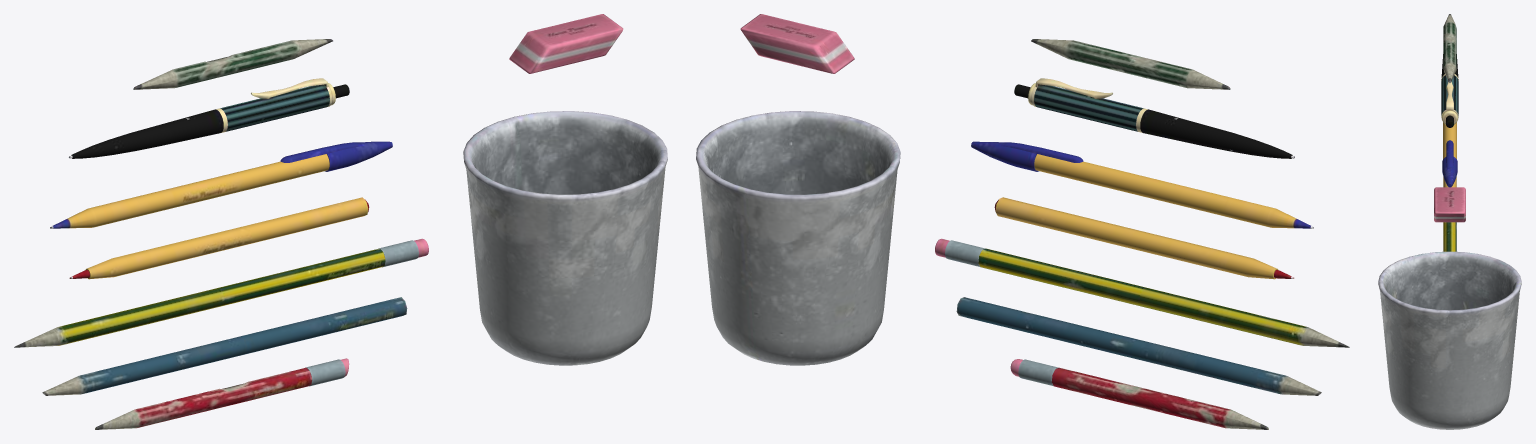
The model's file is stationery_set.glb.
The picture shows the model from 3 angles, left to right: view 1: azimuth 30°, elevation 25°; view 2: azimuth 150°, elevation 25°; view 3: azimuth 270°, elevation 25°; orthographic projection. The views are drawn at different scales.
Visible parts, largest first — view 1: stationery_supplies_pen_red; view 2: stationery_supplies_pen_red; view 3: stationery_supplies_pen_red.
Boxes of the visible parts, <box> form: stationery_supplies_pen_red: <box>14,14,667,429</box>; stationery_supplies_pen_red: <box>696,14,1349,429</box>; stationery_supplies_pen_red: <box>1378,14,1521,429</box>.
Size of the model in its own units: 0.3019 by 0.1643 by 0.0837.
Materials: 1 (1 with a texture image).
